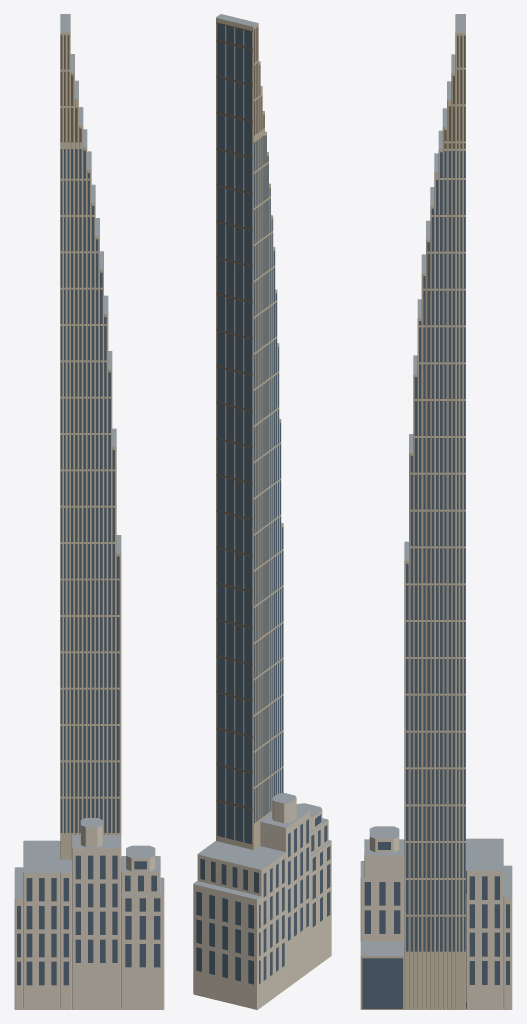
The model's file is nyc-steinway-tower.glb.
The picture shows the model from 3 angles, left to right: view 1: azimuth 90°, elevation 25°; view 2: azimuth 150°, elevation 25°; view 3: azimuth 270°, elevation 25°; orthographic projection.
Parts seen in each view (by area): view 1: Steinway Tower; view 2: Steinway Tower; view 3: Steinway Tower.
Boxes of the visible parts, x1=… form: Steinway Tower: x1=14, y1=14, x2=164, y2=1009; Steinway Tower: x1=193, y1=14, x2=331, y2=1009; Steinway Tower: x1=360, y1=14, x2=512, y2=1009.
Size of the model in its own units: 30.78 by 435 by 61.38.
